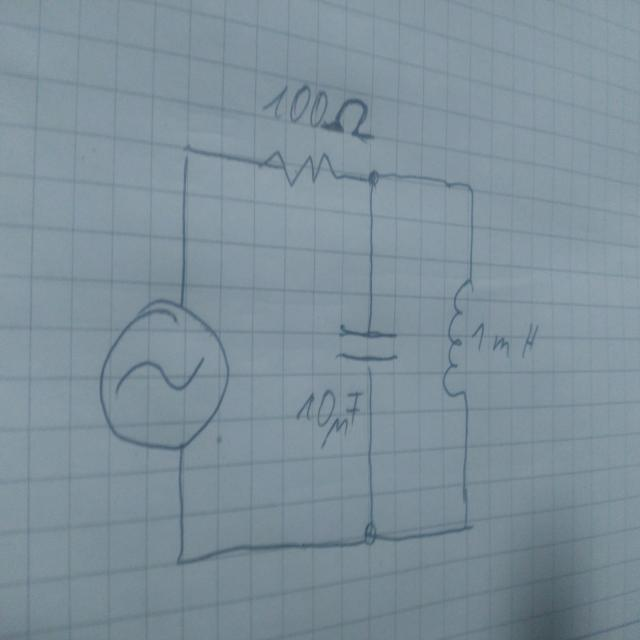capacitor: (332, 322, 402, 367)
inductor: (440, 275, 474, 402)
junction: (176, 137, 200, 167), (359, 518, 380, 550), (169, 548, 192, 577), (362, 166, 384, 195), (457, 513, 475, 540), (461, 177, 479, 201)
resistor: (256, 145, 342, 190)
source: (96, 295, 232, 455)
text: (260, 84, 378, 144), (295, 388, 361, 448), (470, 320, 539, 361)
